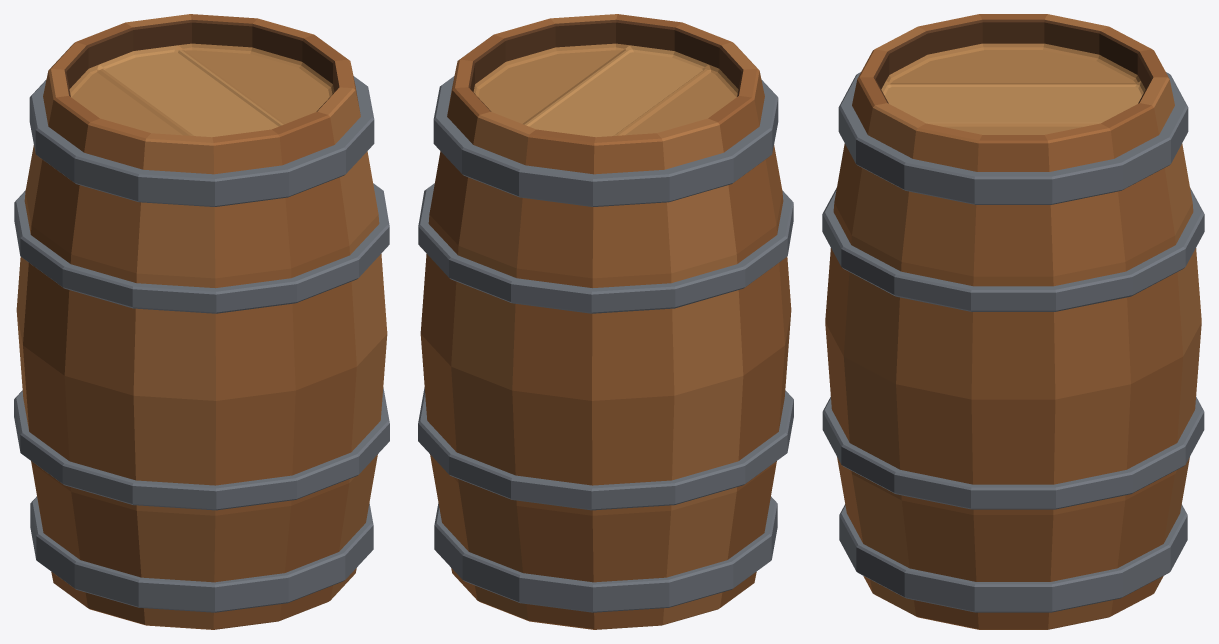
Rendered from barrel.glb.
3 renders of one model, left to right at view 1: azimuth 30°, elevation 25°; view 2: azimuth 150°, elevation 25°; view 3: azimuth 270°, elevation 25°, orthographic.
Visible parts, largest first — view 1: barrel; view 2: barrel; view 3: barrel.
Part boxes in pixels (bbox=[...]): barrel: bbox=[14, 14, 389, 629]; barrel: bbox=[418, 14, 793, 629]; barrel: bbox=[822, 14, 1204, 629].
Bounding box in the file's own units: 0.5381 × 0.7798 × 0.5518.
